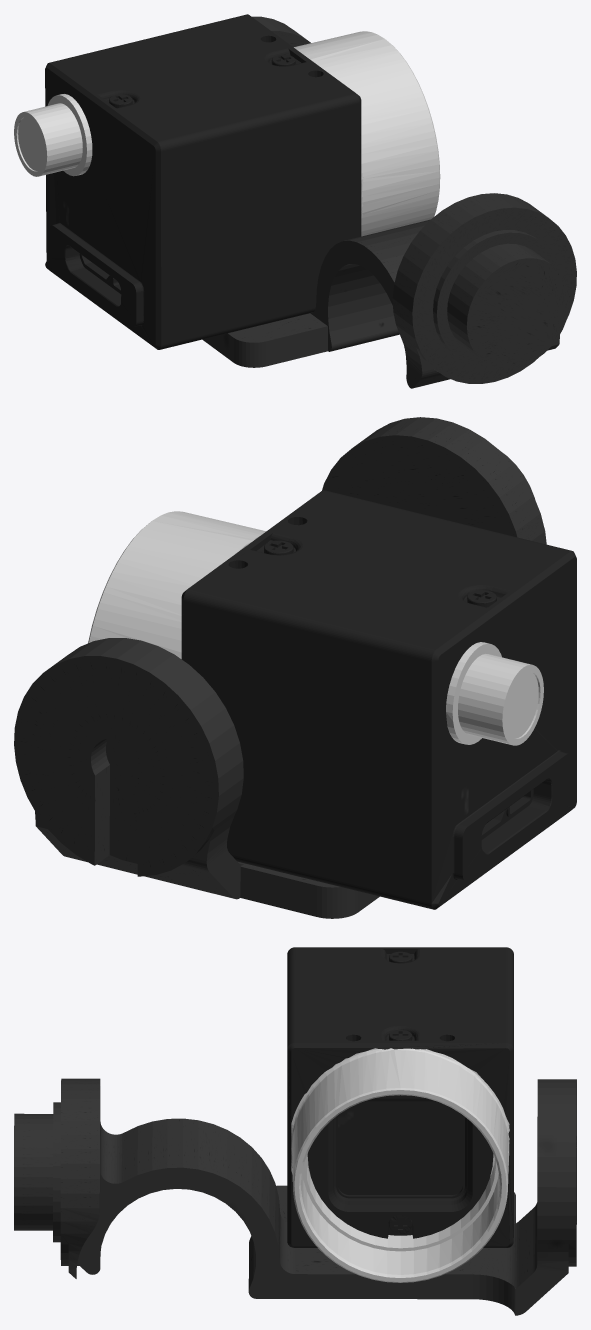
Rendered from gimbal_tilt.dae.
3 renders of one model, top to bottom at view 1: azimuth 30°, elevation 25°; view 2: azimuth 150°, elevation 25°; view 3: azimuth 270°, elevation 25°, orthographic. The views are drawn at different scales.
Visible parts, largest first — view 1: FL2-020-R0.STL; view 2: FL2-020-R0.STL; view 3: FL2-020-R0.STL.
Part boxes in pixels (x1,y1,x2,y2): FL2-020-R0.STL: (14,14,576,388); FL2-020-R0.STL: (14,417,576,918); FL2-020-R0.STL: (14,947,576,1315).
Bounding box in the file's own units: 0.0507 × 0.0721 × 0.0325.
1 material, 1 textured.
